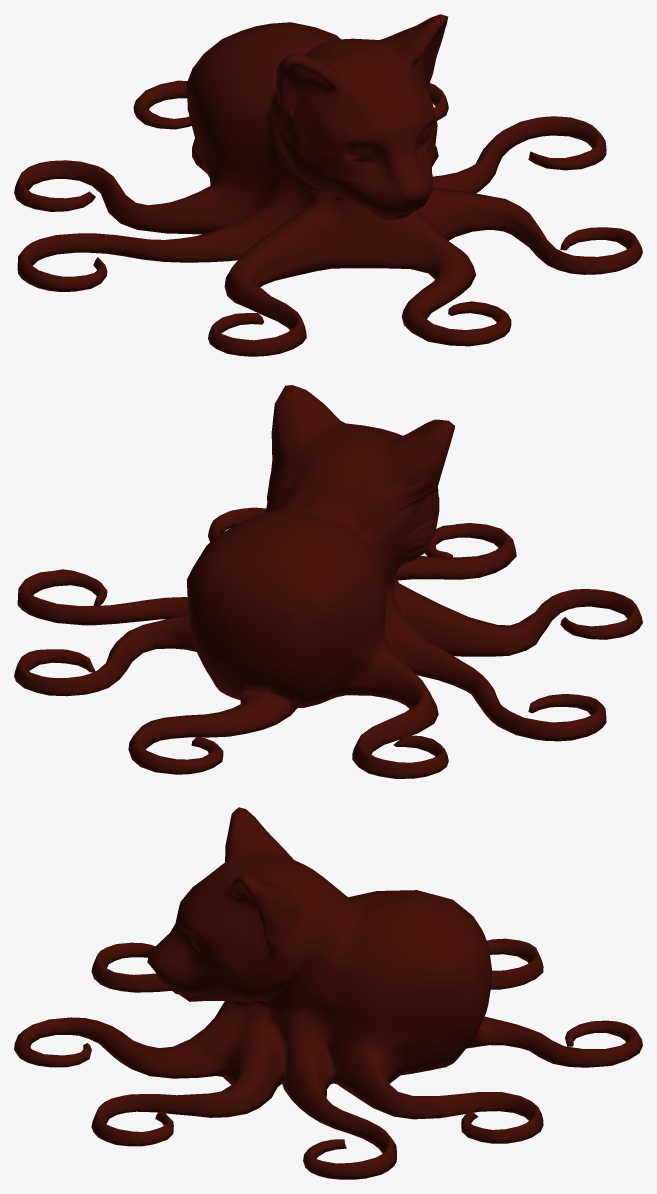
File: bunnyA.obj
3 renders of one model, top to bottom at view 1: azimuth 30°, elevation 25°; view 2: azimuth 150°, elevation 25°; view 3: azimuth 270°, elevation 25°, orthographic. The views are drawn at different scales.
Visible parts, largest first — view 1: bunnyA.018; view 2: bunnyA.018; view 3: bunnyA.018.
Part boxes in pixels (box(x1,y1,x2,y2)): bunnyA.018: box(14, 14, 642, 356); bunnyA.018: box(14, 385, 642, 778); bunnyA.018: box(14, 807, 642, 1179).
Size of the model in its own units: 140 by 51.36 by 141.
